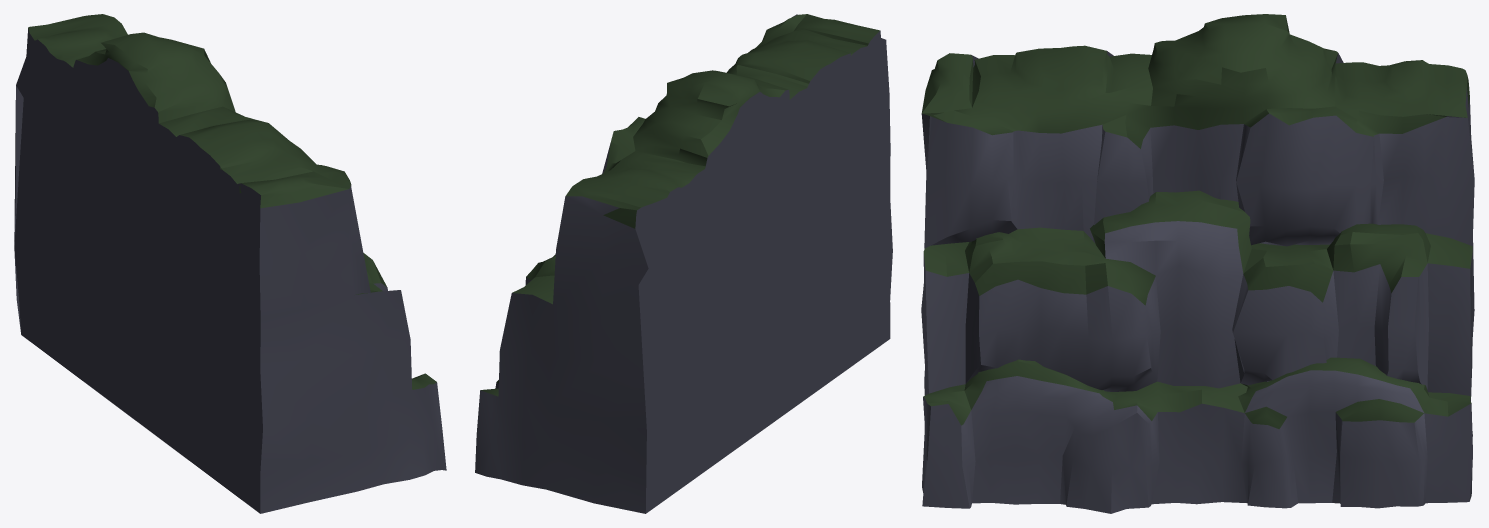
File: Cliff_Standard.fbx
The picture shows the model from 3 angles, left to right: view 1: azimuth 30°, elevation 25°; view 2: azimuth 150°, elevation 25°; view 3: azimuth 270°, elevation 25°; orthographic projection. The views are drawn at different scales.
Parts seen in each view (by area): view 1: Cliff; view 2: Cliff; view 3: Cliff.
Boxes of the visible parts, x1,y1,x2,y2 form: Cliff: (14, 14, 446, 513); Cliff: (475, 14, 892, 513); Cliff: (921, 14, 1474, 513).
Size of the model in its own units: 654 by 1141 by 1423.
